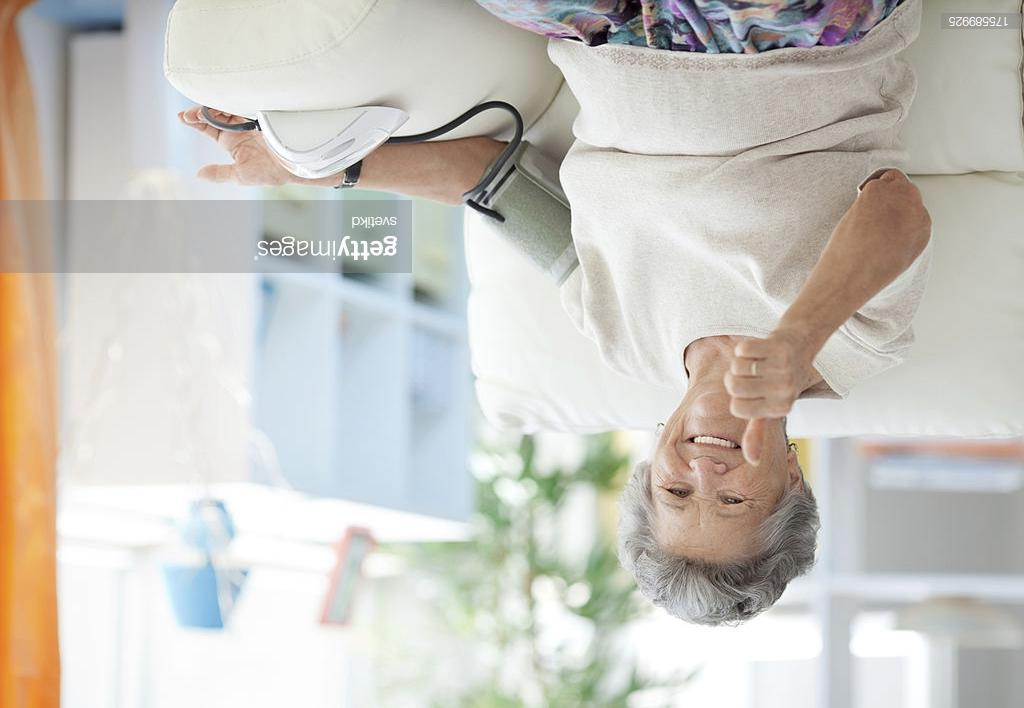thumbsdown: (723, 336, 798, 467)
